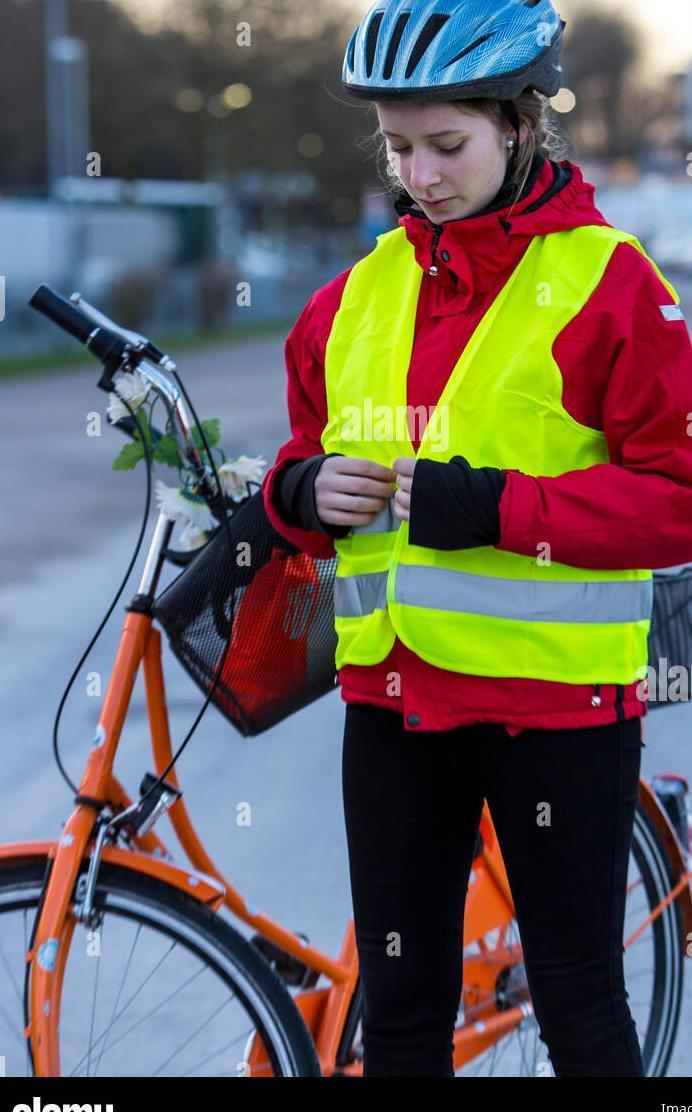Vest: (316, 212, 661, 692)
